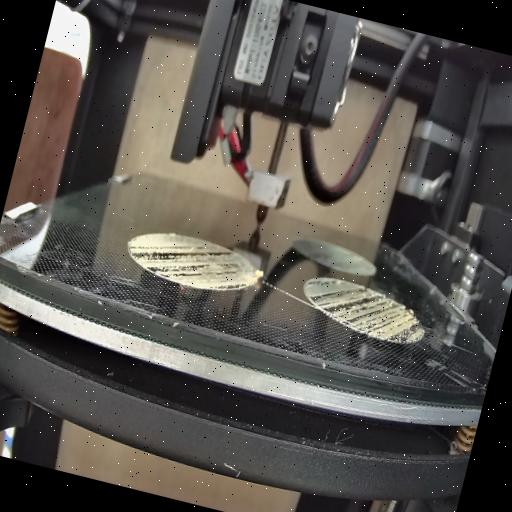under_extrusion: (125, 229, 254, 300), (300, 274, 428, 344)
